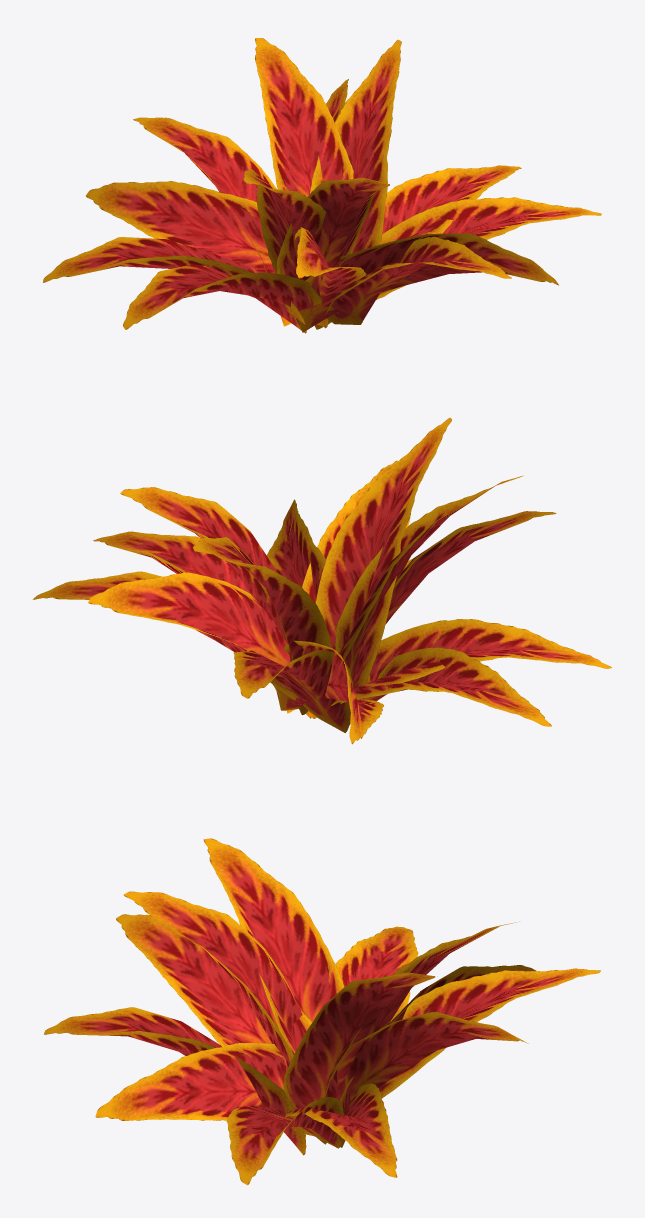
The model's file is OrangeBush_01.fbx.
The picture shows the model from 3 angles, top to bottom: view 1: azimuth 30°, elevation 25°; view 2: azimuth 150°, elevation 25°; view 3: azimuth 270°, elevation 25°; orthographic projection. The views are drawn at different scales.
Parts seen in each view (by area): view 1: RedLeaf063; view 2: RedLeaf063; view 3: RedLeaf063.
Part boxes in pixels (box(x1,y1,x2,y2)): RedLeaf063: box(43, 38, 601, 333); RedLeaf063: box(33, 417, 611, 744); RedLeaf063: box(44, 838, 600, 1185).
Size of the model in its own units: 20.89 by 9.75 by 19.88.
